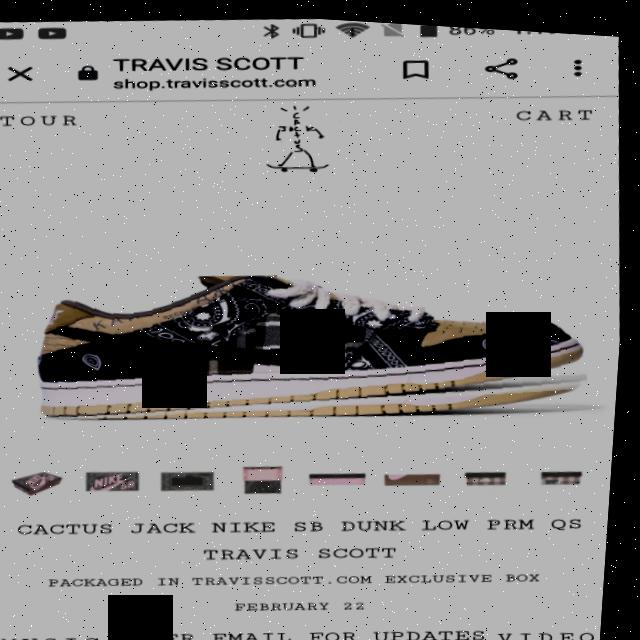shoe: (2, 237, 600, 451)
